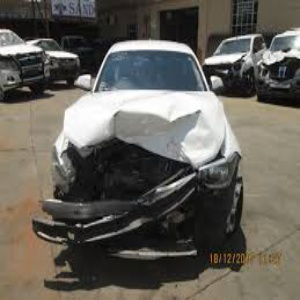bonnet: (72, 96, 227, 159)
bumper: (29, 186, 197, 259)
